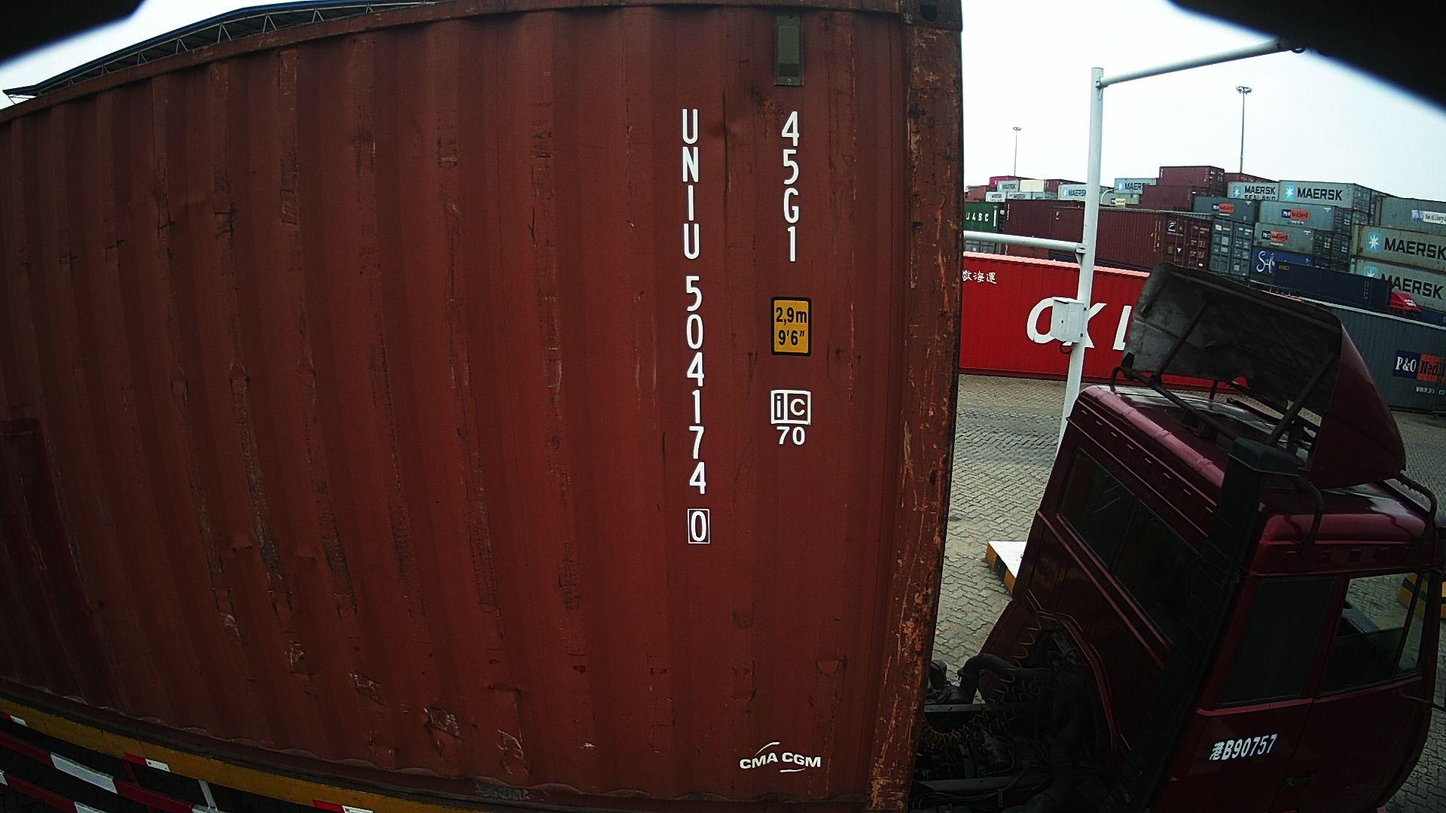container-numbers: (676, 103, 713, 549), (776, 106, 807, 266)
